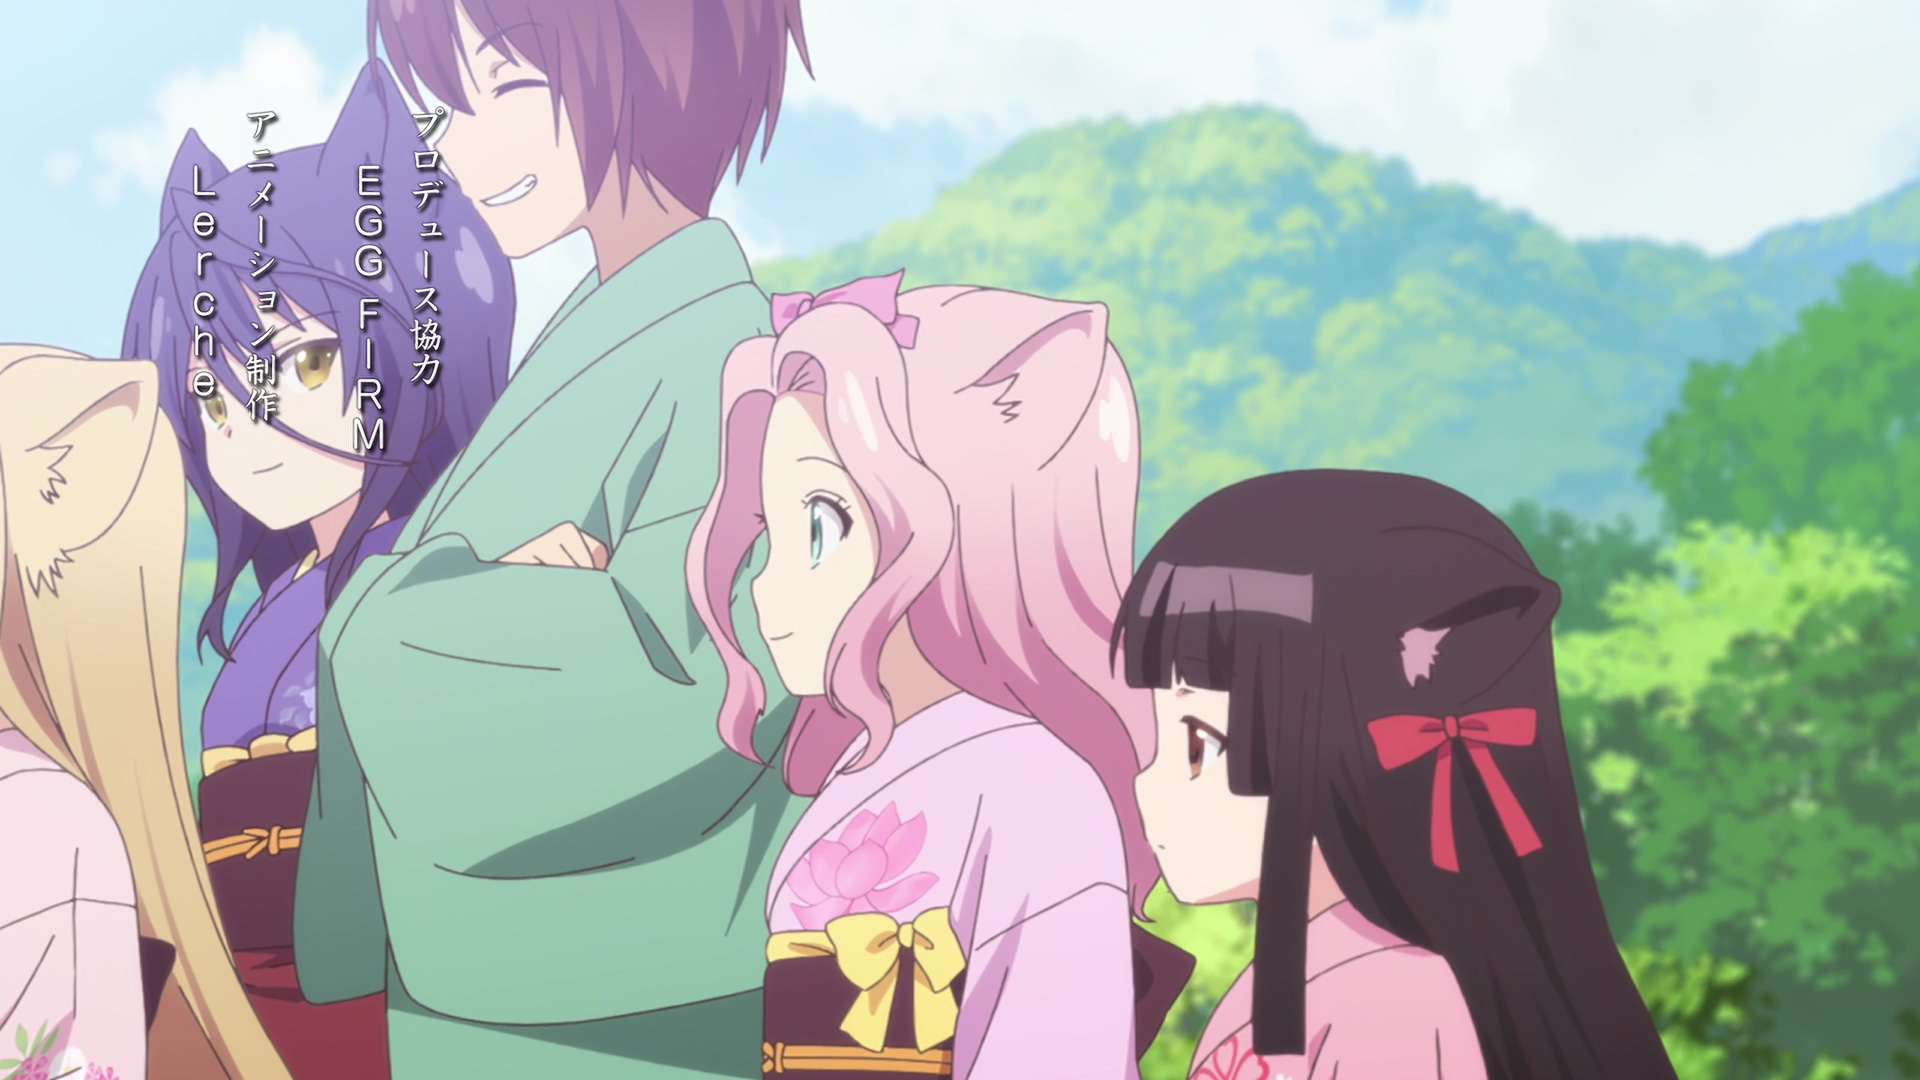枣: (295, 1, 818, 1080)
柚: (1, 342, 189, 1080)
樱: (1110, 467, 1673, 1080)
皋: (119, 55, 516, 1080)
莲: (682, 266, 1199, 1080)
